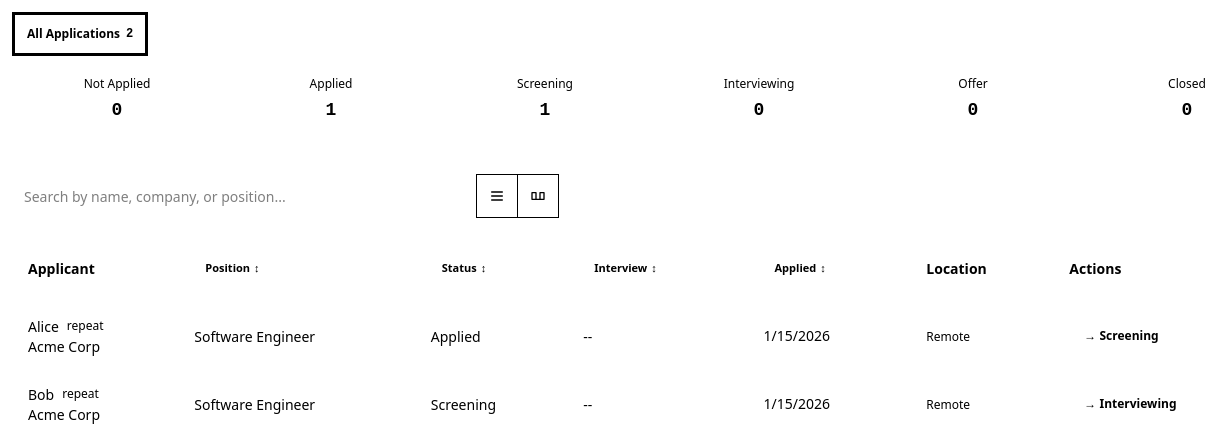
EmployerDashboard › toggles filter off when clicking active funnel stage
The width and height of the screenshot is (1222, 441).
Click the button with aria-label "applied: 1 application": (331, 105) [226,68,436,142]
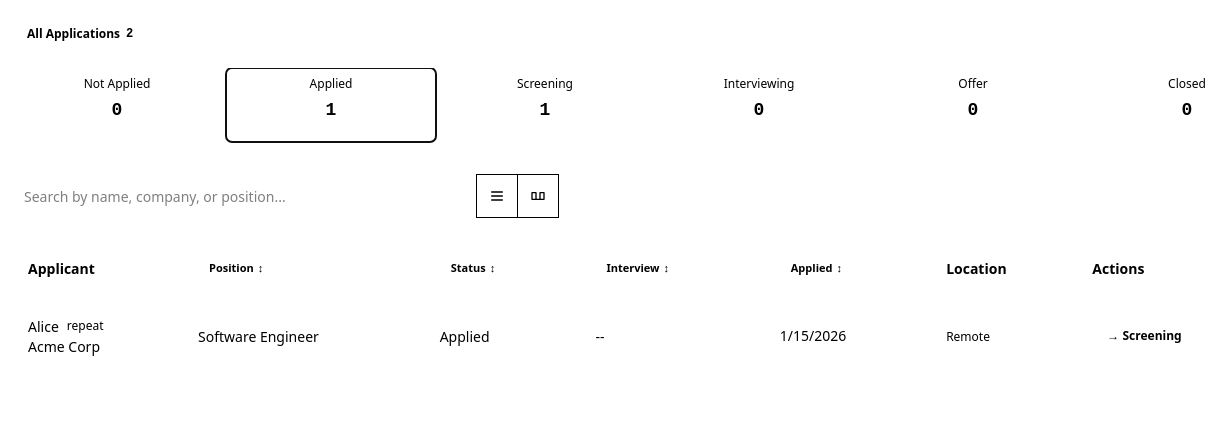
Result: the text "Bob" is gone
Click the button with aria-label "applied: 1 application": (331, 105) [226,68,436,142]
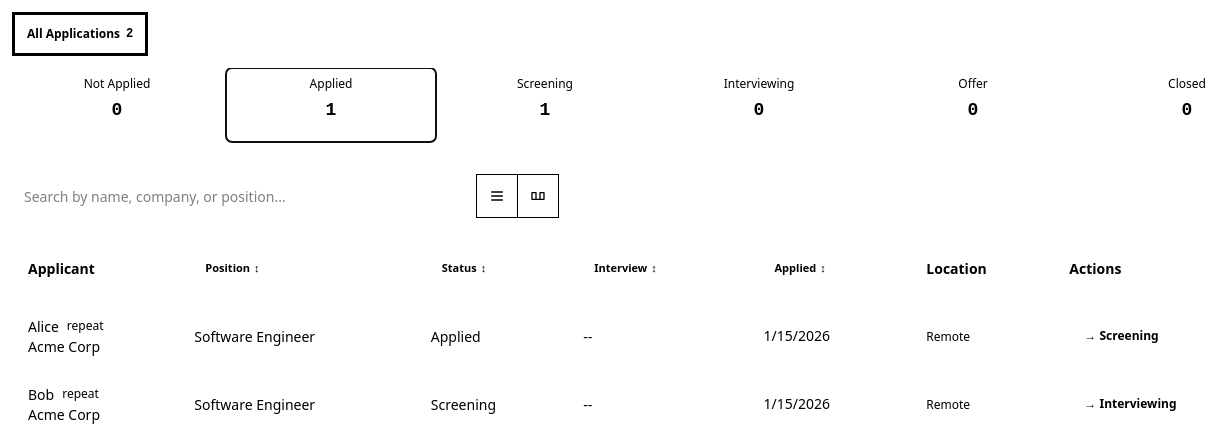
Result: the text "Bob" is shown at [28,384,54,404]
